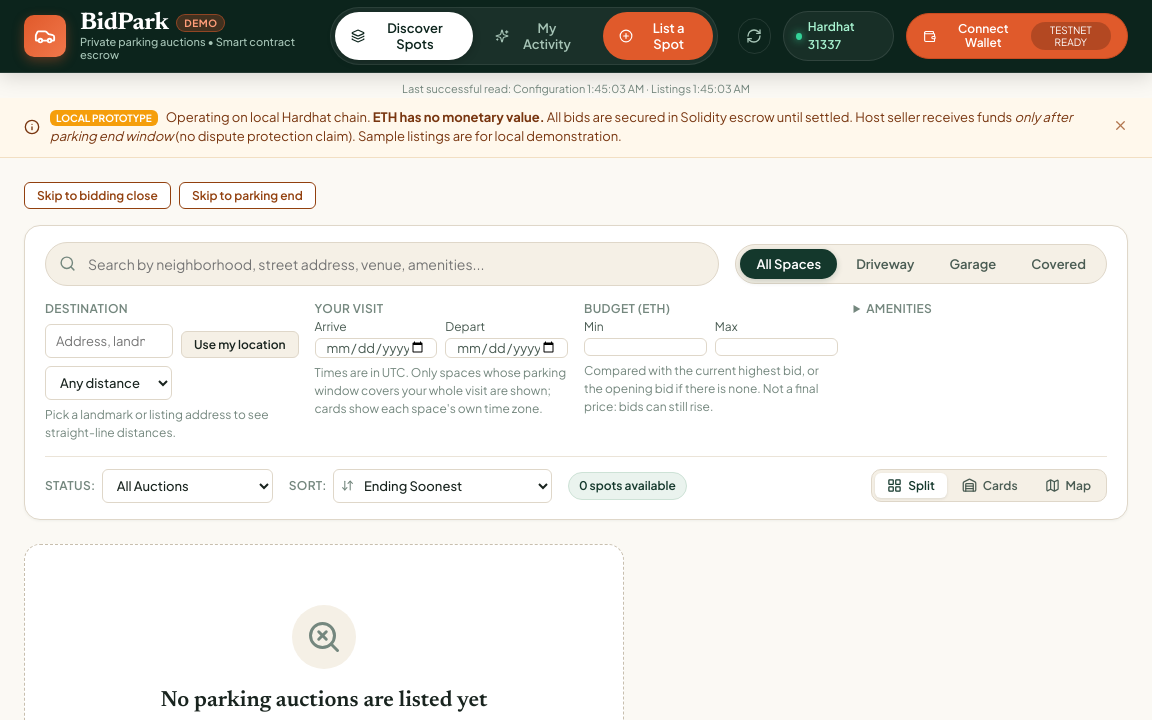
Test: listings read status › reports a total failure when nothing could be read
Click the button named "Refresh data": (754, 36) [738, 18, 771, 54]
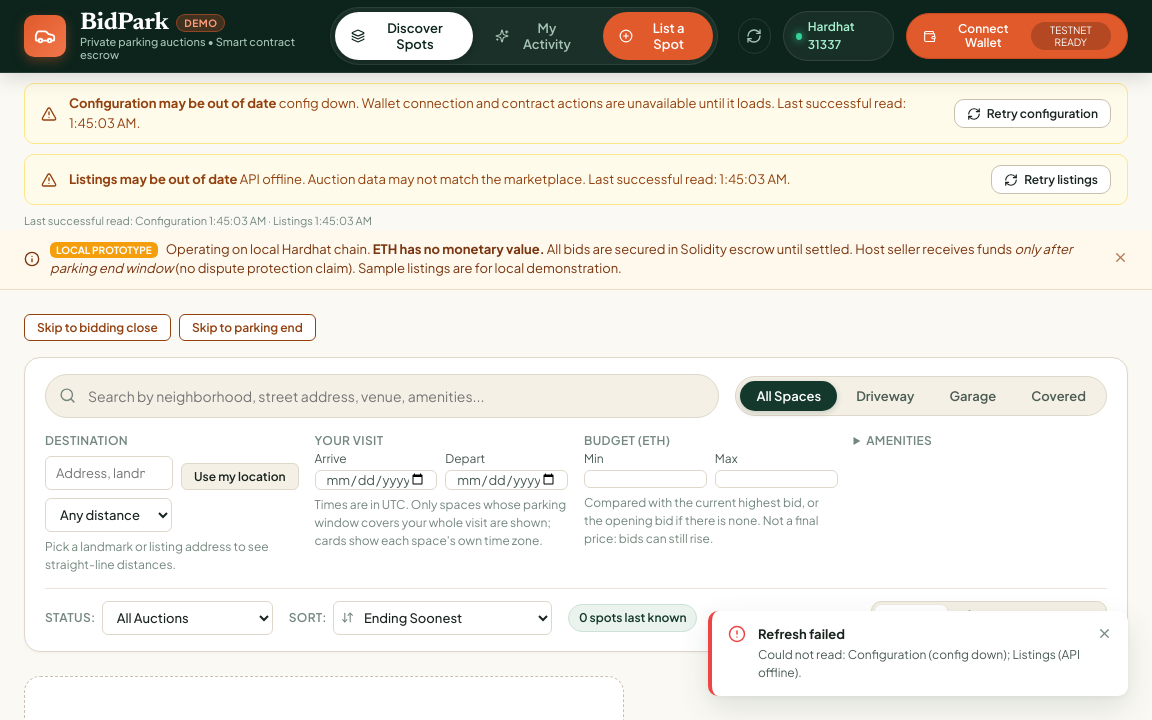
Check: the text "Refresh failed" is shown, box [758, 626, 845, 642]
Check: the text "Configuration (config down); Listings (API offline)" is shown, box [758, 647, 1080, 680]
